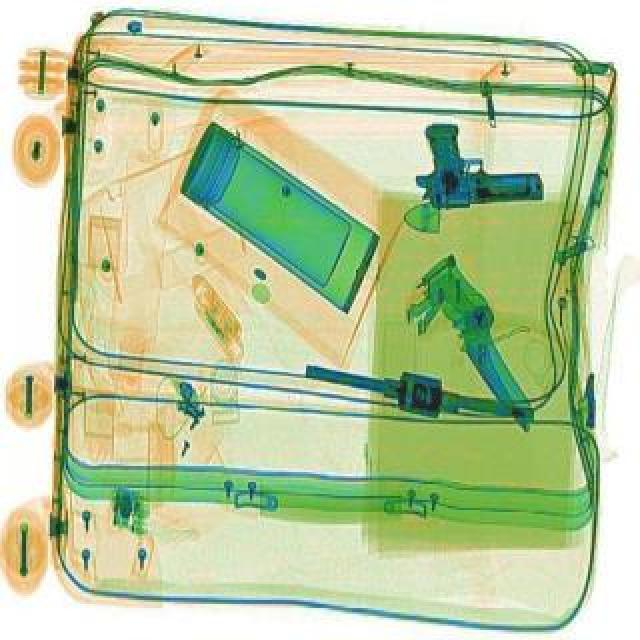gun: (412, 122, 544, 214)
